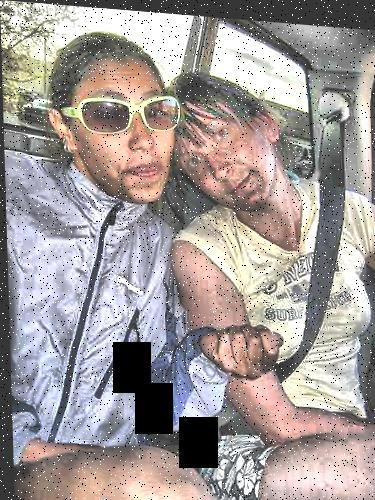seatbelt: (221, 100, 362, 432)
